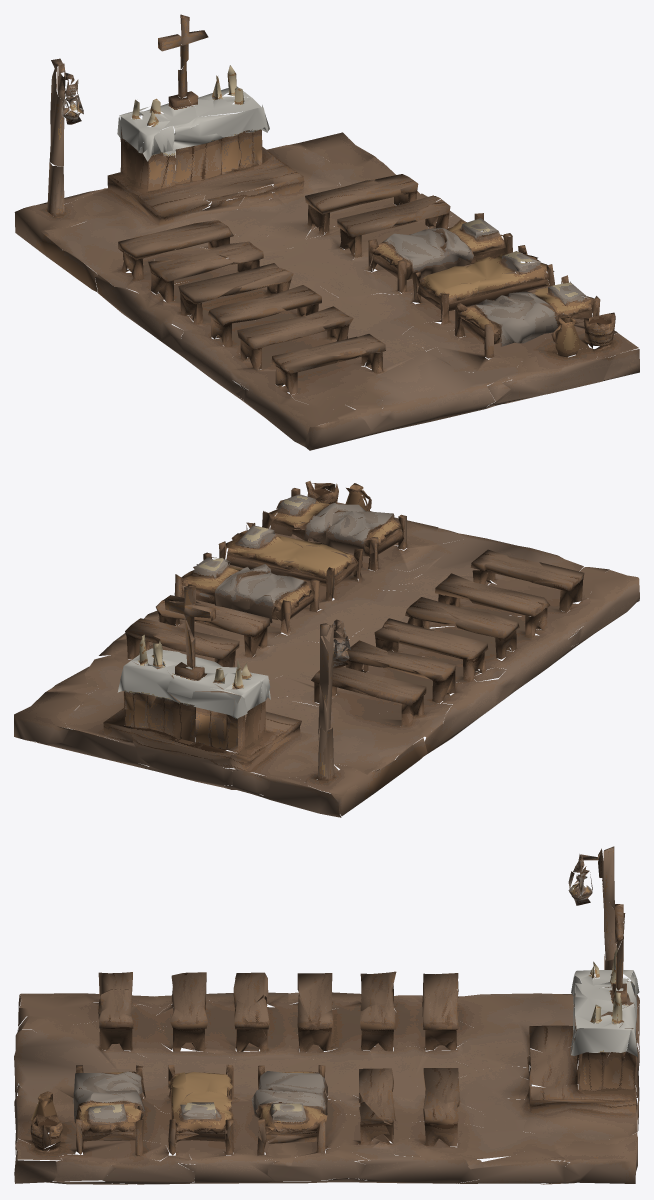
The model's file is capilla_muebles.glb.
3 renders of one model, top to bottom at view 1: azimuth 30°, elevation 25°; view 2: azimuth 150°, elevation 25°; view 3: azimuth 270°, elevation 25°, orthographic. The views are drawn at different scales.
Visible parts, largest first — view 1: tripo_node_192cb28c-3be4-4e5e-aad6-1c78089dc3f1; view 2: tripo_node_192cb28c-3be4-4e5e-aad6-1c78089dc3f1; view 3: tripo_node_192cb28c-3be4-4e5e-aad6-1c78089dc3f1.
Part boxes in pixels (left/top/right/bottom): tripo_node_192cb28c-3be4-4e5e-aad6-1c78089dc3f1: left=14, top=14, right=639, bottom=450; tripo_node_192cb28c-3be4-4e5e-aad6-1c78089dc3f1: left=14, top=481, right=639, bottom=817; tripo_node_192cb28c-3be4-4e5e-aad6-1c78089dc3f1: left=14, top=846, right=639, bottom=1184.
Bounding box in the file's own units: 1.87 × 1 × 2.91.
Materials: 1 (1 with a texture image).
